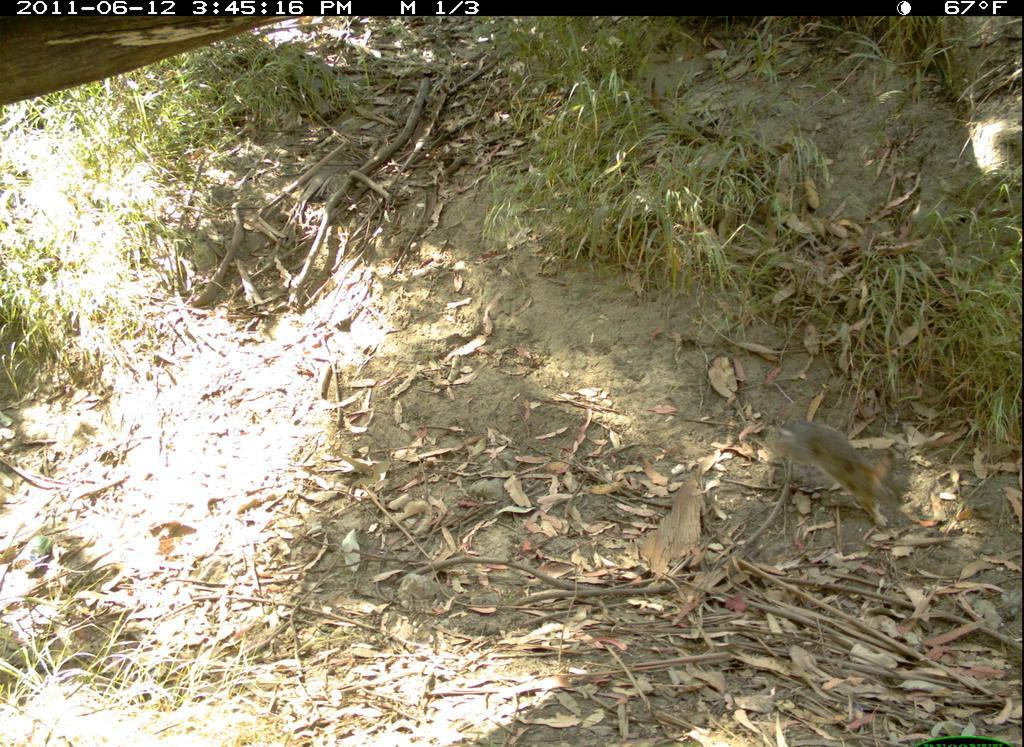rabbit: (767, 390, 912, 537)
